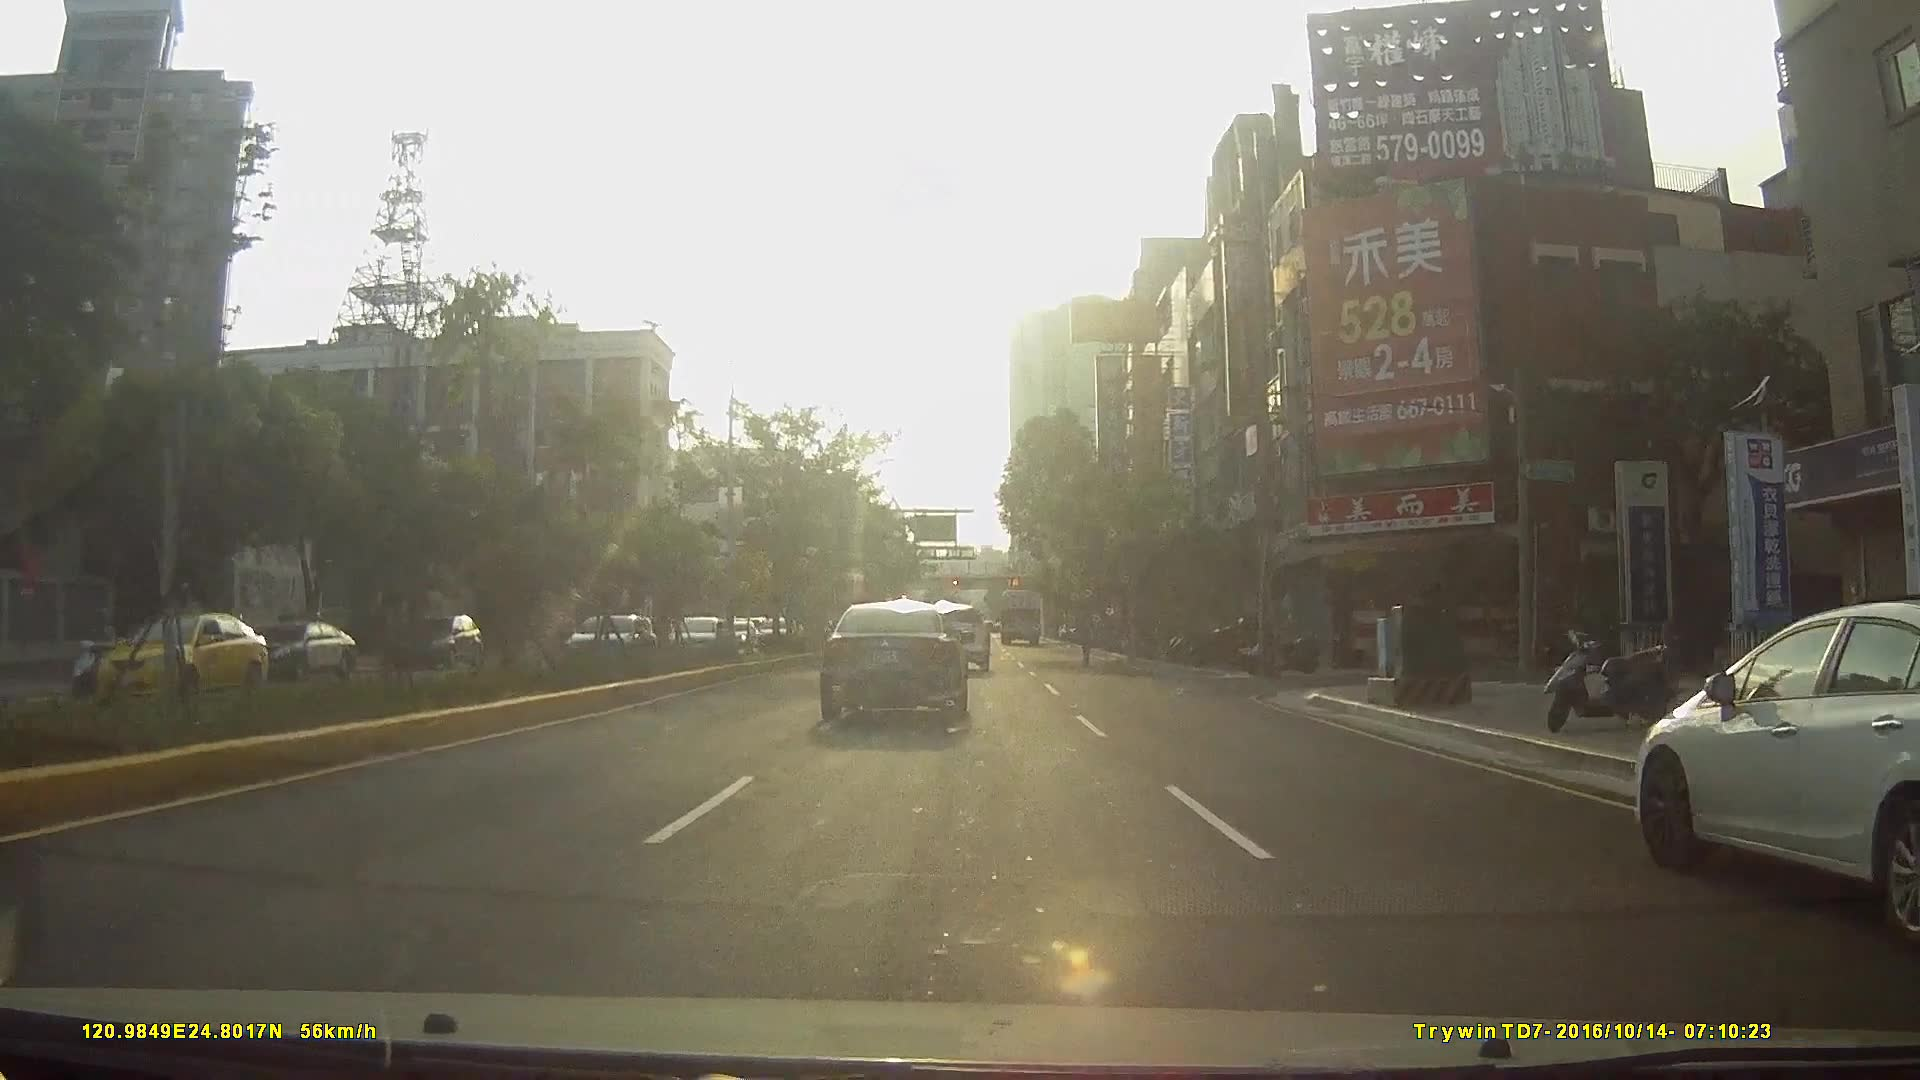vehicle: (1630, 600, 1920, 947), (79, 612, 274, 721), (818, 599, 968, 724), (138, 616, 258, 690), (239, 620, 349, 680), (386, 613, 481, 670), (916, 603, 993, 673), (555, 612, 651, 665), (665, 613, 732, 658), (996, 585, 1043, 647), (604, 620, 646, 658)
